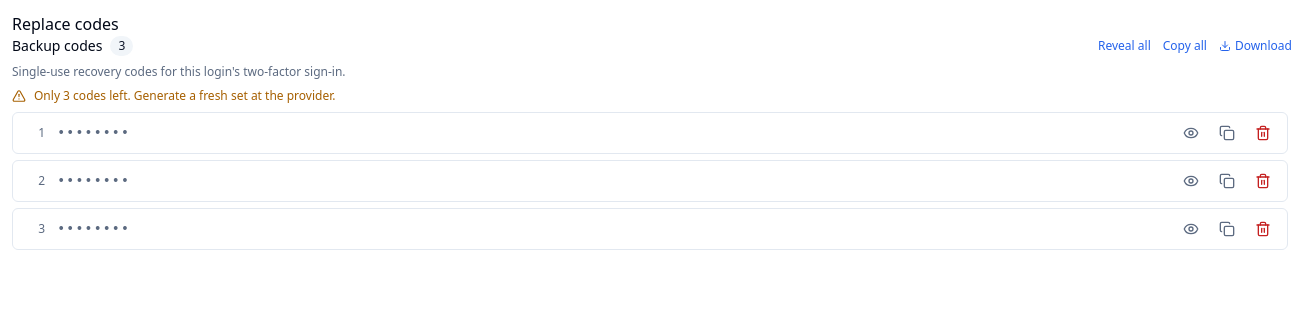
BackupCodeList downloading › requires a confirmation that names the file as unencrypted
Click the button "Download" at coordinates (1255, 46), box x1=1219 y1=38 x2=1292 y2=54
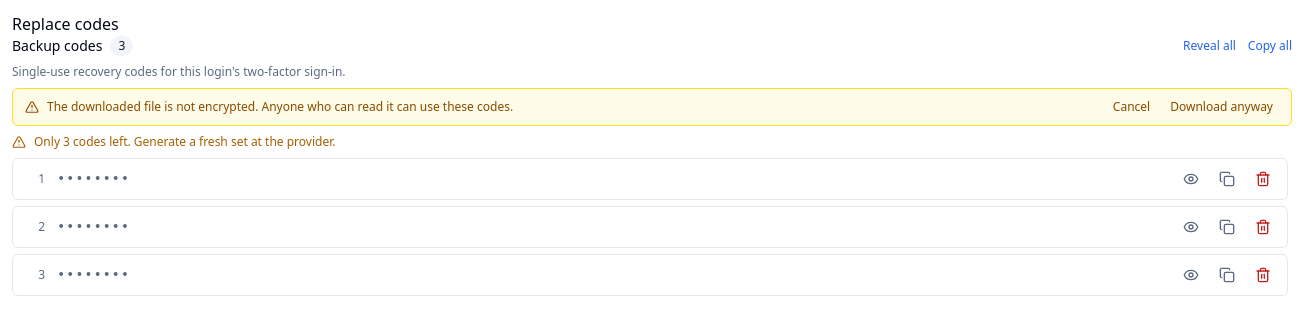
Expected: the text "not encrypted" is shown, x1=47 y1=98 x2=513 y2=115
